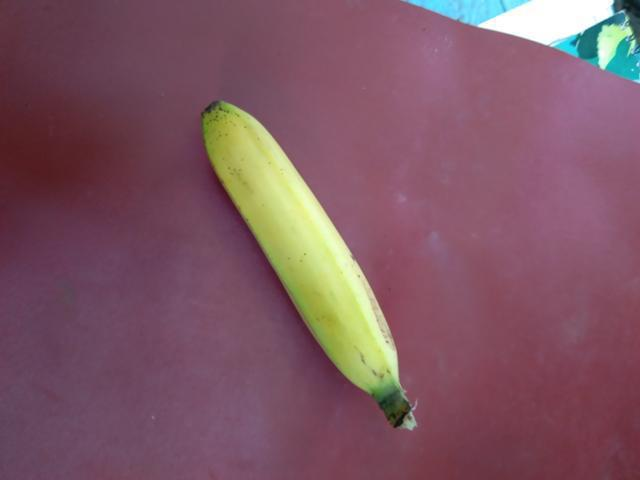freshripe: (196, 99, 407, 404)
